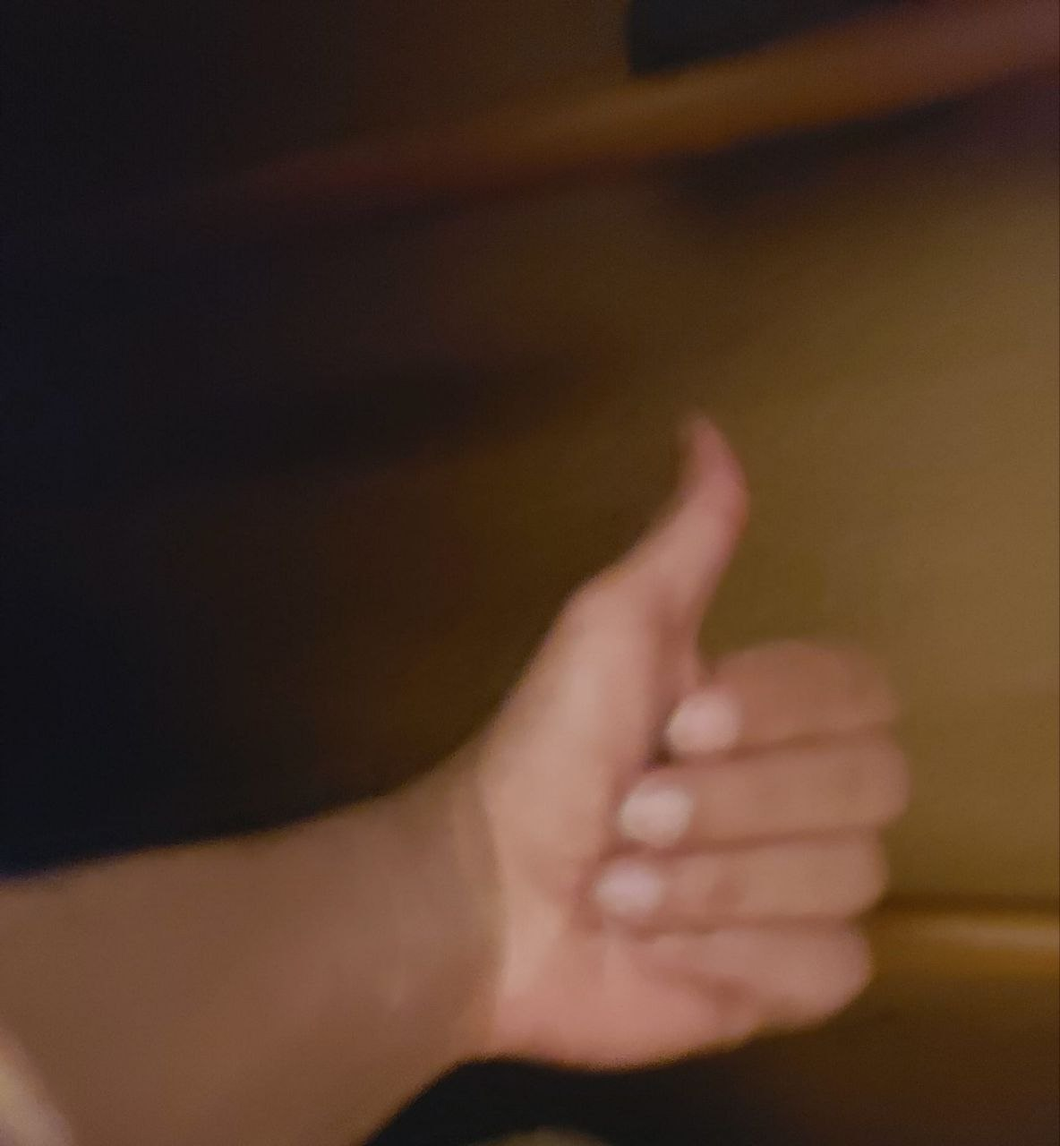Thumbs up: (449, 398, 968, 1095)
